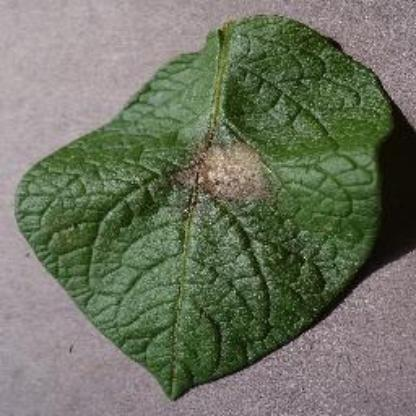Late-Blight: (18, 13, 392, 398)
